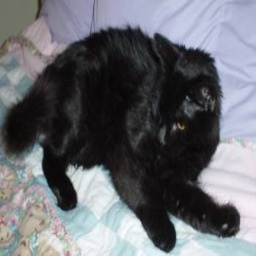cat: (5, 27, 243, 251)
